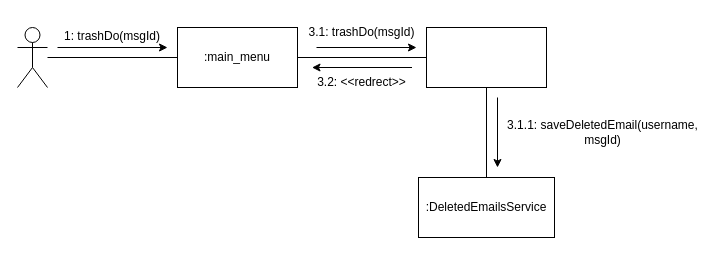
Some shapes in this 726 by 255 pixel diagram are drawn without their labels. Each missing label, with the centre of its shape:
":TrashController" belongs at [486,57].
"User" belongs at [32,57].
